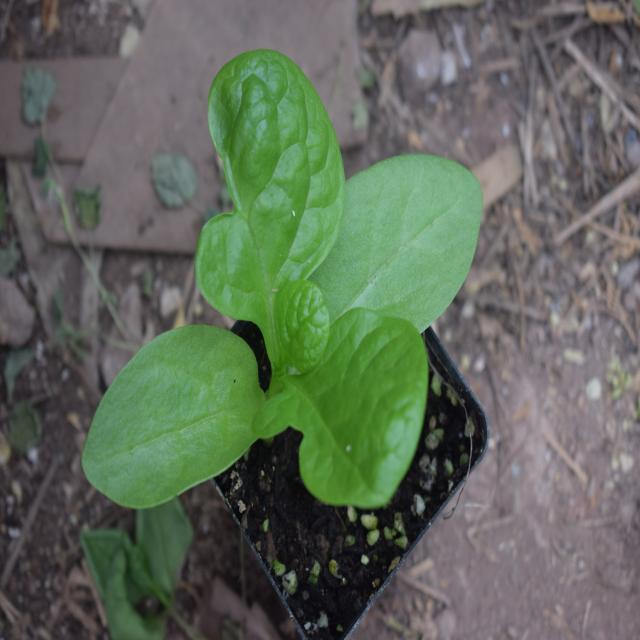Ceylon spinach: (90, 55, 489, 536)
